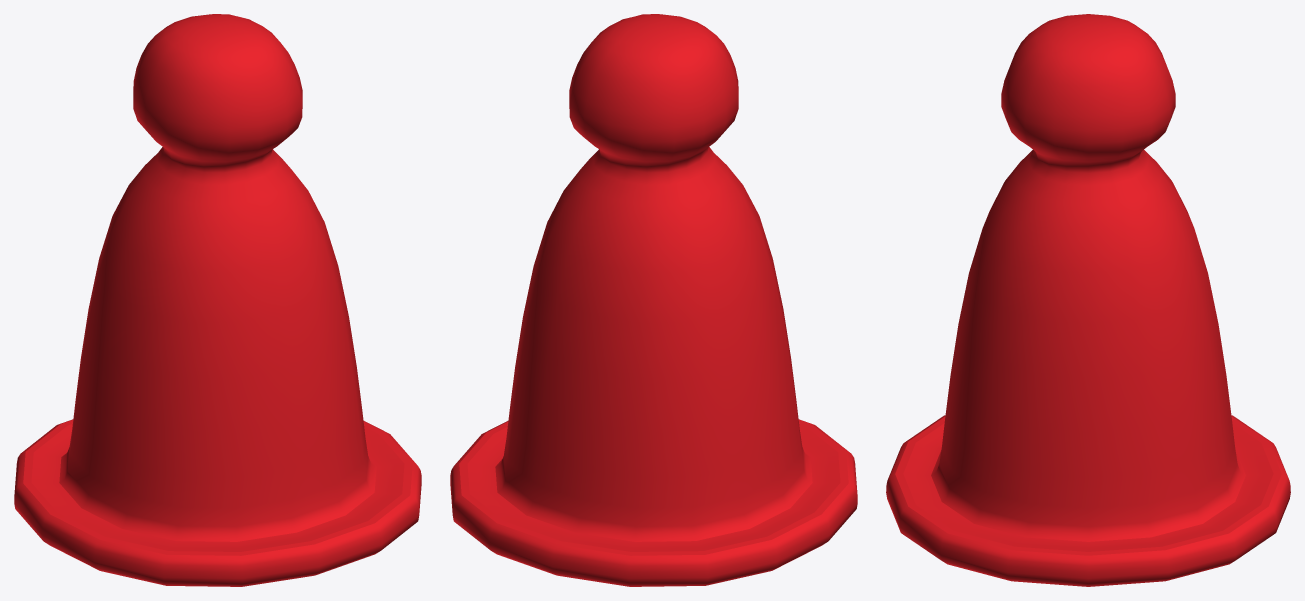
The model's file is Jugador4gcw.glb.
3 renders of one model, left to right at view 1: azimuth 30°, elevation 25°; view 2: azimuth 150°, elevation 25°; view 3: azimuth 270°, elevation 25°, orthographic.
Visible parts, largest first — view 1: k1.003; view 2: k1.003; view 3: k1.003.
Part boxes in pixels (bbox=[...]): k1.003: bbox=[14, 14, 421, 586]; k1.003: bbox=[450, 14, 857, 586]; k1.003: bbox=[886, 14, 1290, 586].
Size of the model in its own units: 0.6931 by 0.9252 by 0.6931.
